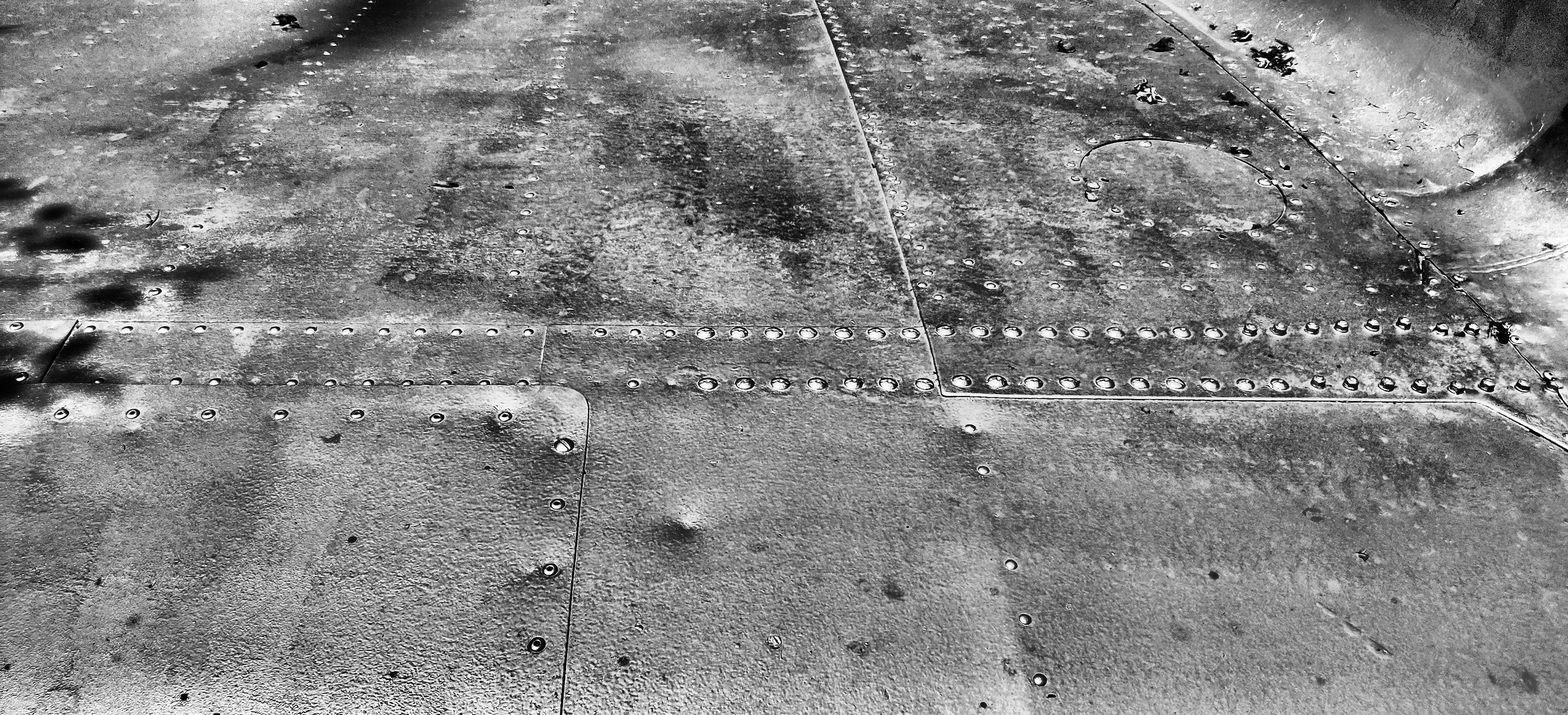dent: (1407, 98, 1568, 202), (674, 516, 700, 537)
missing-head: (1215, 234, 1230, 240), (1215, 227, 1224, 233), (206, 206, 214, 210)
paint-peel-off: (1414, 248, 1426, 287)
